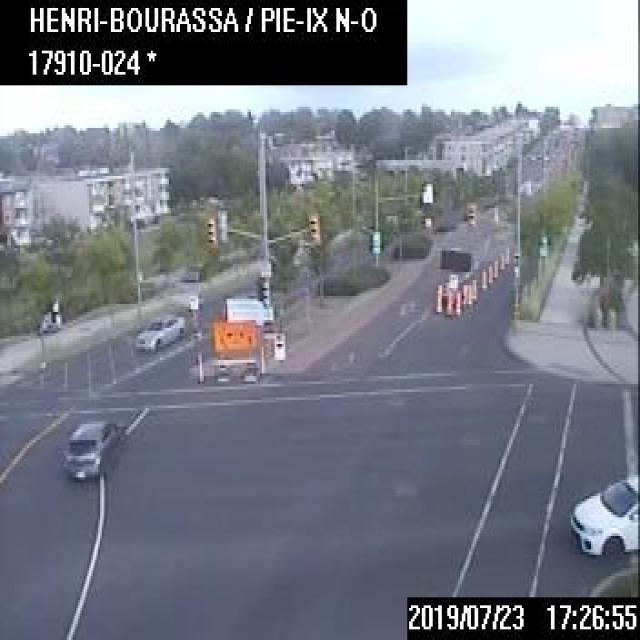construction: (194, 293, 271, 384), (438, 248, 469, 309), (454, 288, 460, 314), (445, 287, 450, 316), (470, 277, 476, 301), (435, 283, 440, 311), (480, 267, 486, 287), (486, 262, 492, 282), (497, 250, 502, 268), (503, 245, 508, 263), (462, 282, 466, 304), (466, 282, 470, 304), (492, 259, 497, 276)
vehicle: (567, 472, 638, 557), (62, 419, 127, 480), (131, 312, 185, 352)
